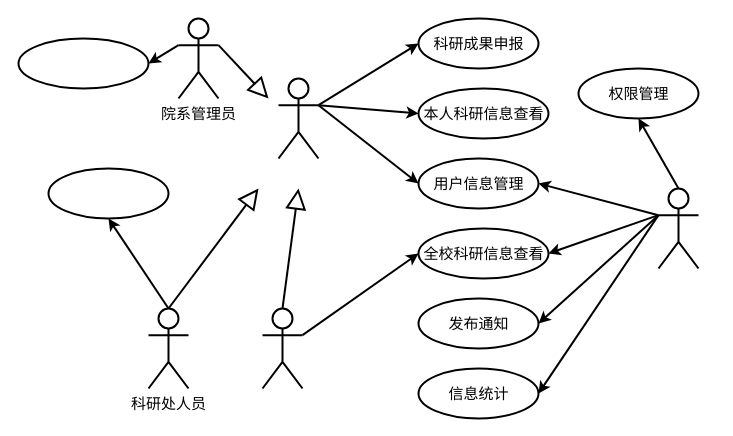
Some shapes in this 733 by 436 pixel diagram are drawn without their labels. Each missing label, with the centre of its shape:
"主管校领导" goes at pixel 282 348.
"普通科研人员" goes at pixel 298 118.
"科研成果审批" goes at pixel 108 193.
"超级管理员" goes at pixel 678 228.
"院系科研信息查看" goes at pixel 83 63.
